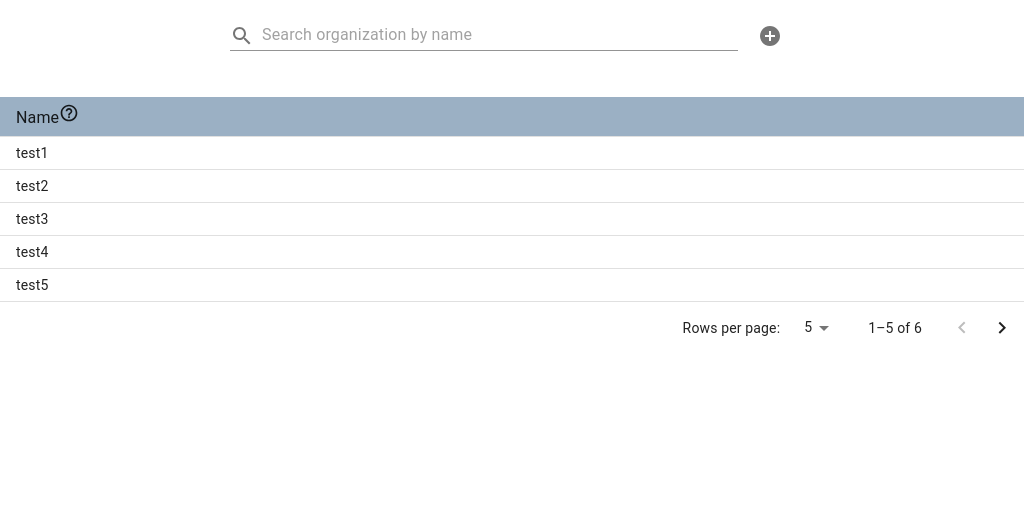
Test: Entity table › should allow the user to change the number of rows per page
Expected: the text "test1" is shown 5 times, [0,136,1024,169]; [0,169,1024,202]; [0,202,1024,235]; [0,235,1024,268]; [0,268,1024,301]
Click the dropdown named "Rows per page:".
click(808, 327)  # box [804,319,812,335]
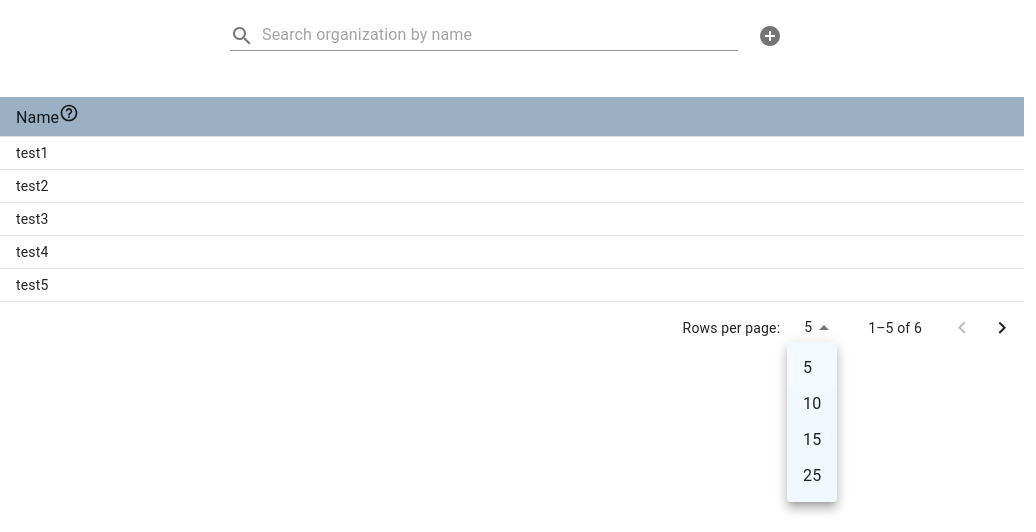
Click the option "10".
click(812, 404)  # box [803,394,821,413]
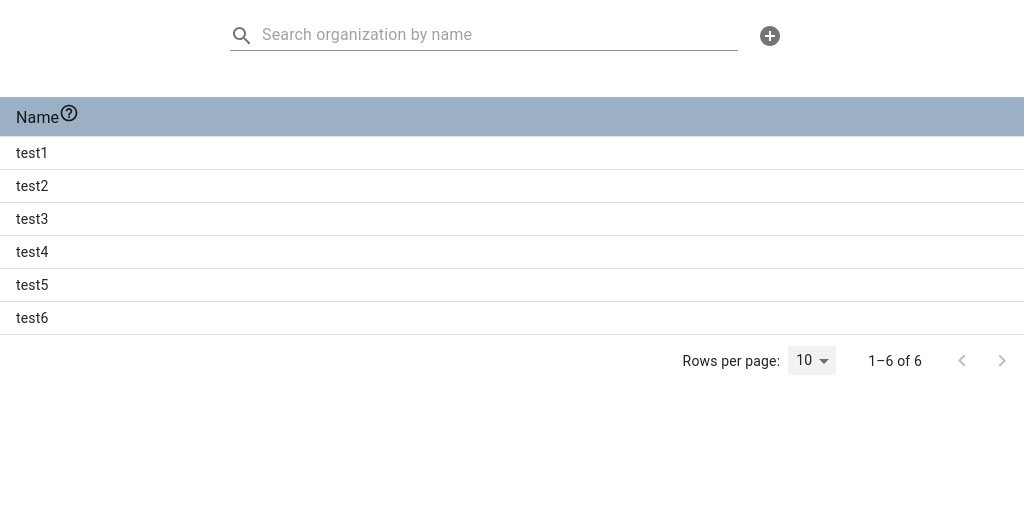
Now the text "test1" is shown 6 times, box [0,136,1024,169]; [0,169,1024,202]; [0,202,1024,235]; [0,235,1024,268]; [0,268,1024,301]; [0,301,1024,334]
